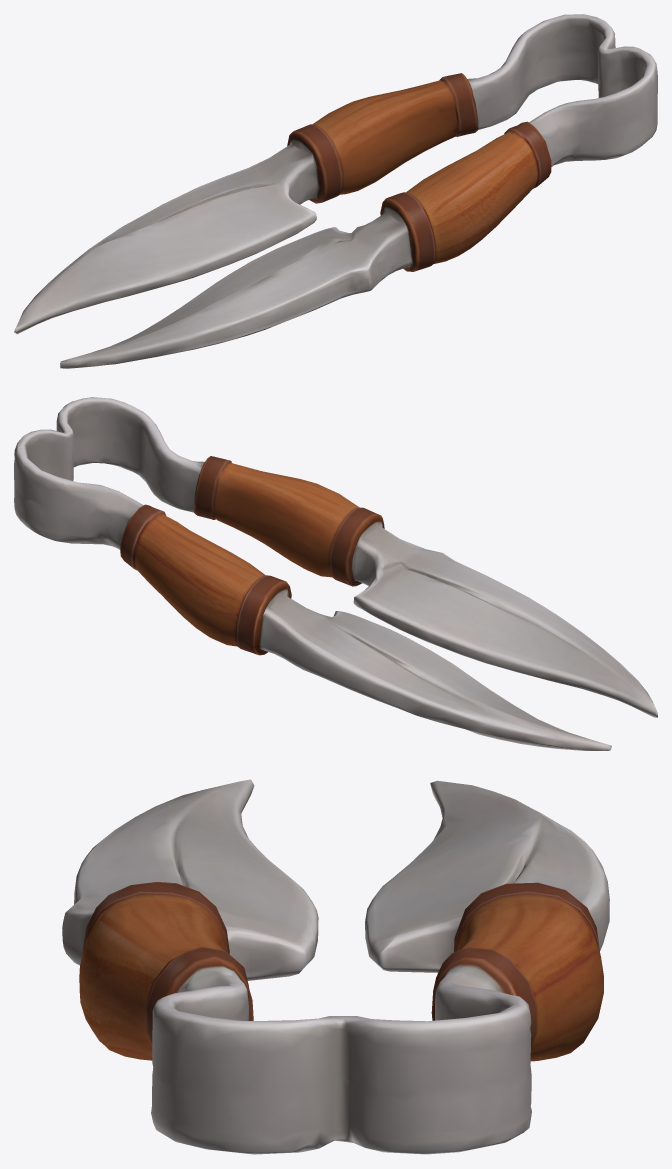
File: tripo_convert_727a563a-82d5-4ece-a15d-4d6fa4b8546a ( Gunting).fbx
The picture shows the model from 3 angles, top to bottom: view 1: azimuth 30°, elevation 25°; view 2: azimuth 150°, elevation 25°; view 3: azimuth 270°, elevation 25°; orthographic projection. The views are drawn at different scales.
Visible parts, largest first — view 1: tripo_node_727a563a; view 2: tripo_node_727a563a; view 3: tripo_node_727a563a.
Boxes of the visible parts, x1,y1,x2,y2 form: tripo_node_727a563a: (14, 14, 657, 368); tripo_node_727a563a: (14, 397, 657, 750); tripo_node_727a563a: (62, 779, 609, 1154).
Size of the model in its own units: 0.9791 by 0.2708 by 0.3914.
